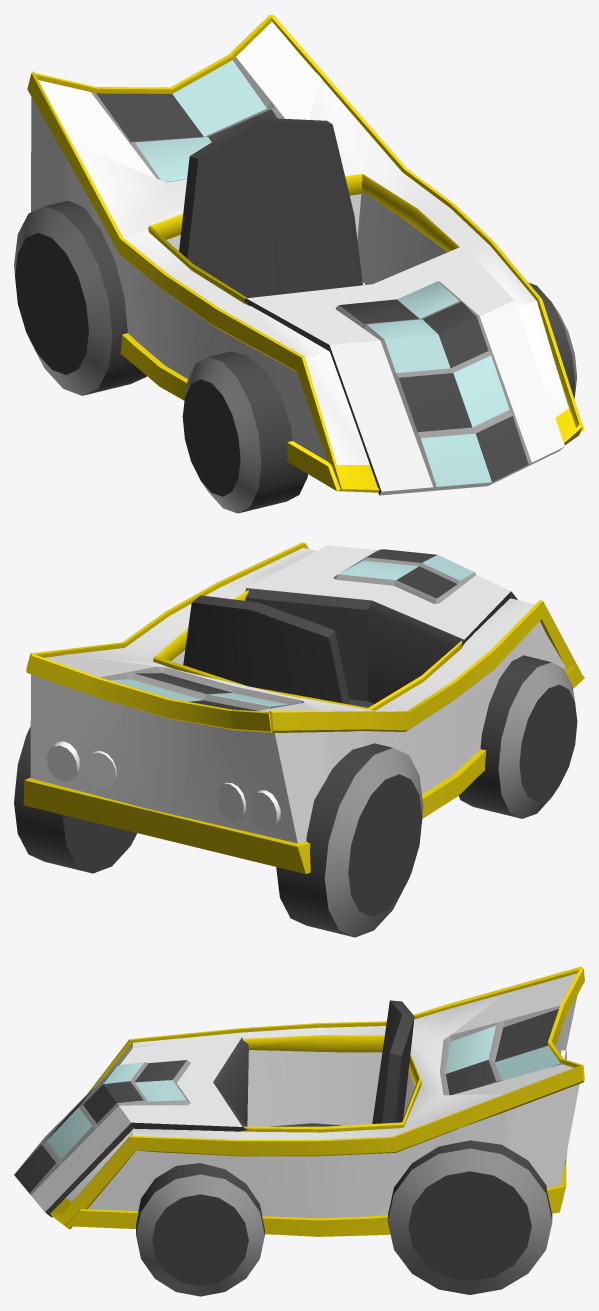
File: Cart_3.fbx
The picture shows the model from 3 angles, top to bottom: view 1: azimuth 30°, elevation 25°; view 2: azimuth 150°, elevation 25°; view 3: azimuth 270°, elevation 25°; orthographic projection. The views are drawn at different scales.
Parts seen in each view (by area): view 1: Circle.001; view 2: Circle.001; view 3: Circle.001.
Boxes of the visible parts, <box> form: Circle.001: <box>14,14,584,513</box>; Circle.001: <box>14,542,584,937</box>; Circle.001: <box>14,966,584,1296</box>.
Bounding box in the file's own units: 200 × 148 × 351.
